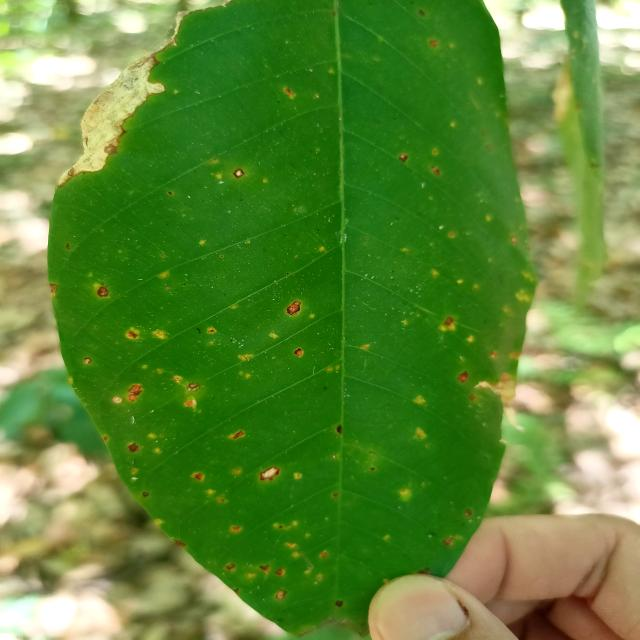Colletotrichum: (259, 466, 280, 481), (286, 300, 301, 315), (96, 286, 110, 298), (275, 588, 287, 600), (234, 167, 245, 179), (458, 369, 467, 382), (128, 443, 140, 452), (398, 154, 408, 163), (444, 317, 453, 326), (294, 348, 304, 356), (336, 424, 343, 434), (335, 600, 343, 607), (142, 491, 150, 498)
Leaf-Blight: (58, 51, 167, 187)
